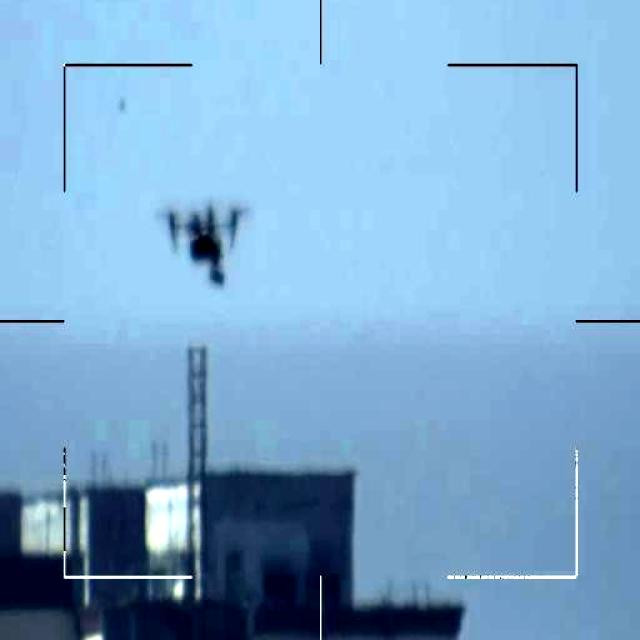bird: (165, 198, 248, 292)
